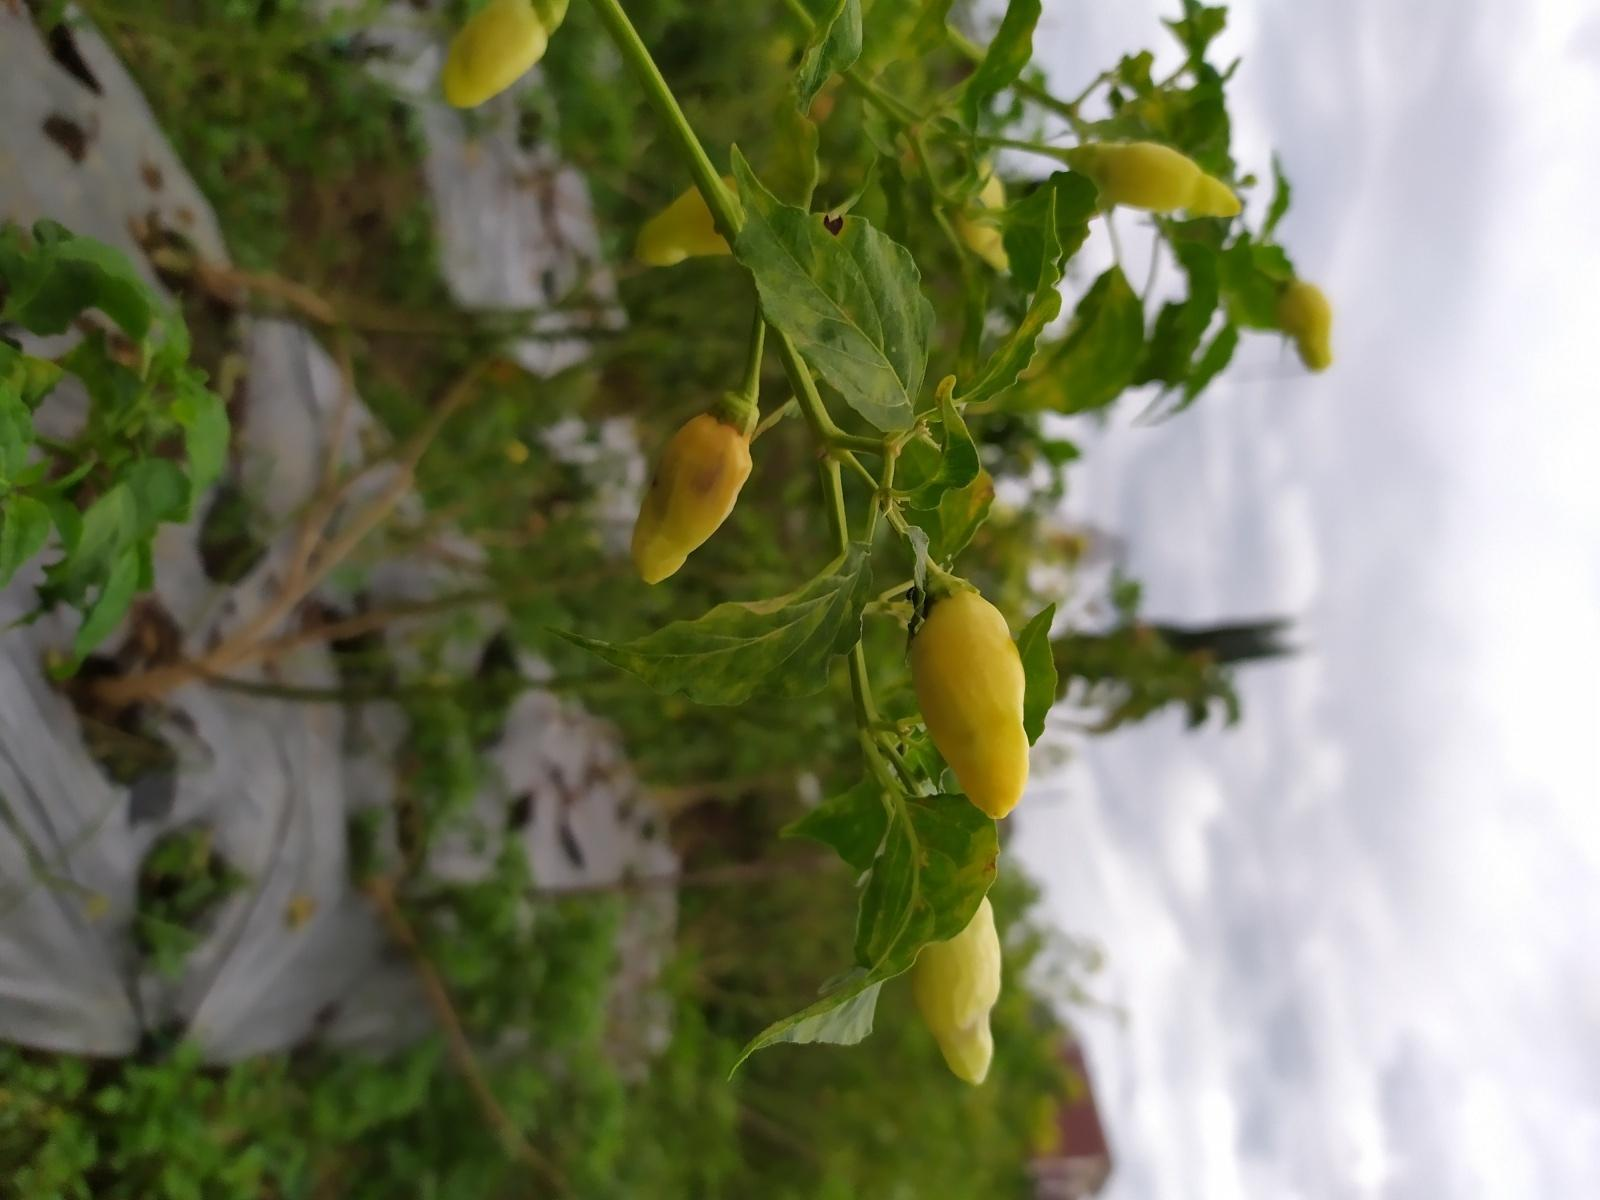cabai_normal: (907, 590, 1031, 821), (910, 895, 1003, 1088), (1075, 141, 1242, 217), (441, 0, 548, 108)
lalat_buah: (631, 411, 758, 585)
